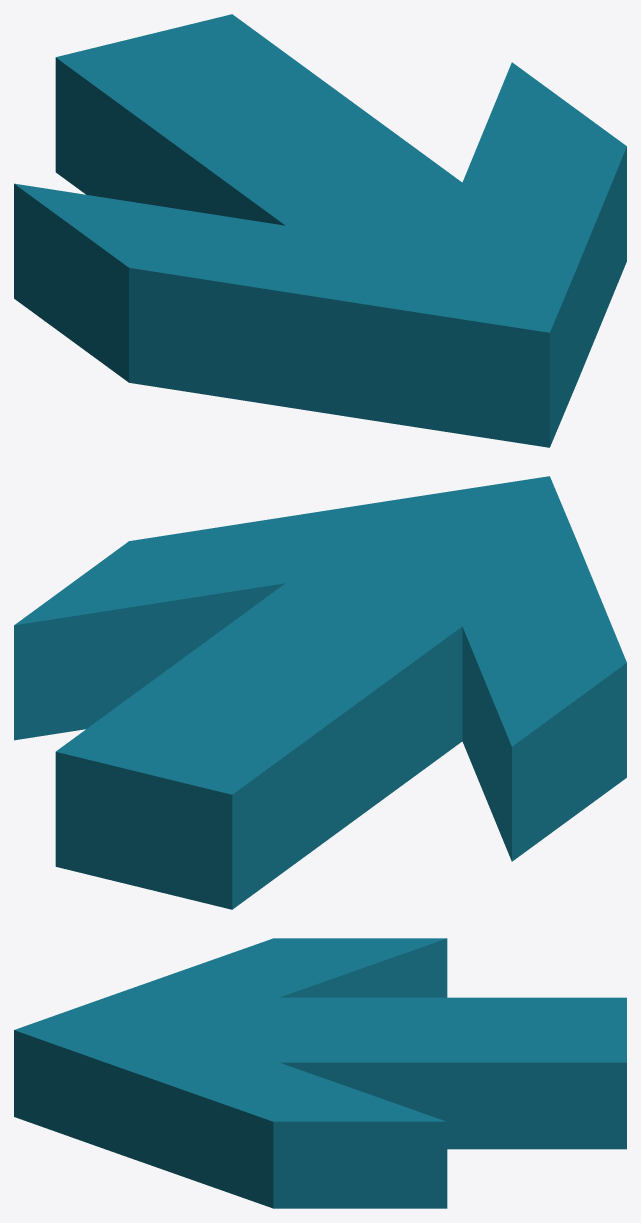
File: UIDelivery.fbx
The picture shows the model from 3 angles, top to bottom: view 1: azimuth 30°, elevation 25°; view 2: azimuth 150°, elevation 25°; view 3: azimuth 270°, elevation 25°; orthographic projection. The views are drawn at different scales.
Parts seen in each view (by area): view 1: Delivery; view 2: Delivery; view 3: Delivery.
Part boxes in pixels (<box>): Delivery: <box>14,14,626,447</box>; Delivery: <box>14,476,626,909</box>; Delivery: <box>14,938,626,1208</box>.
Bounding box in the file's own units: 41.64 × 9.19 × 58.79.
